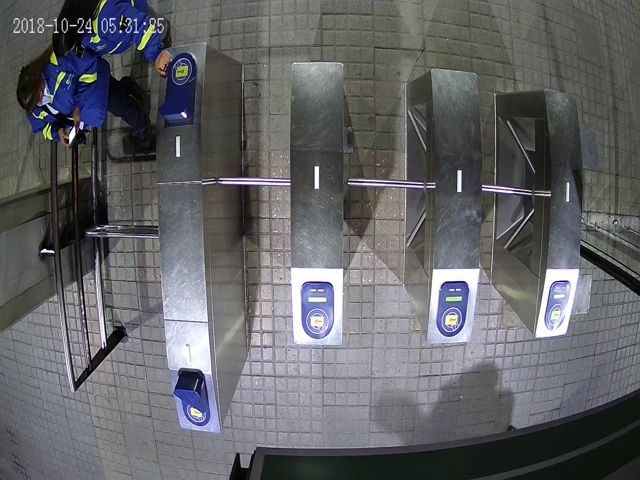Chaleco_azul: (16, 45, 149, 144), (51, 1, 172, 75)
